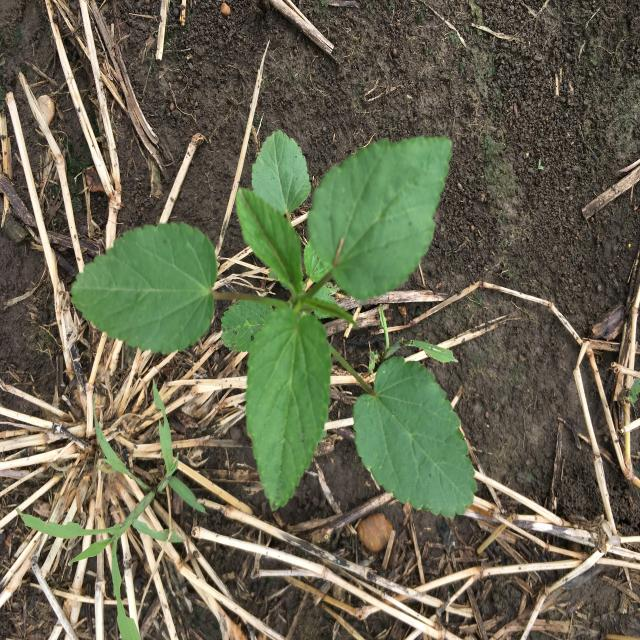PricklySida: (70, 128, 479, 521)
